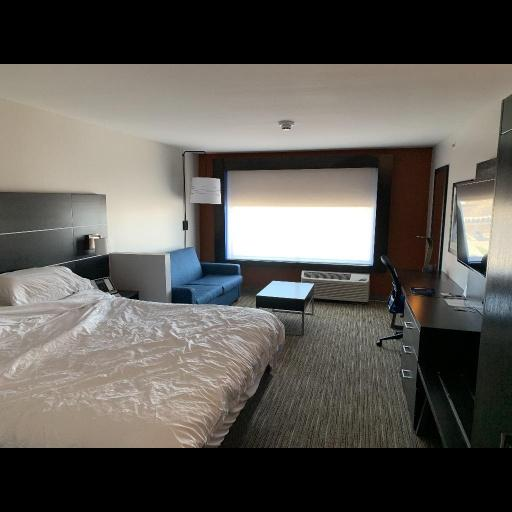chair: (374, 262, 412, 358)
clean_floor: (241, 304, 422, 453)
lamp: (175, 150, 232, 248)
messy_bed: (2, 261, 284, 454)
organized table: (396, 257, 494, 430), (260, 275, 319, 335)
